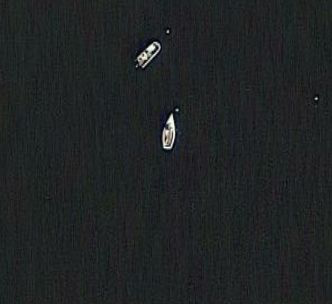boat: (134, 39, 163, 69), (160, 110, 180, 152)
